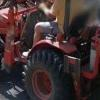Tractor: (4, 3, 100, 100)
